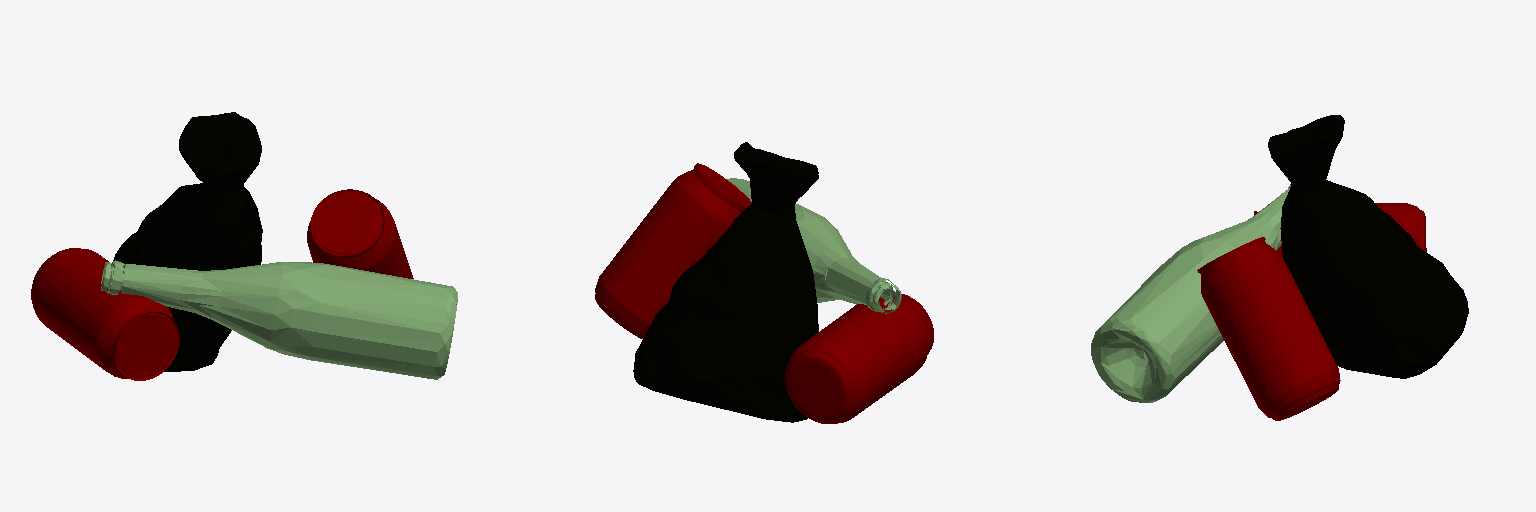
Rendered from copler.obj.
The picture shows the model from 3 angles: view 1: azimuth 30°, elevation 25°; view 2: azimuth 150°, elevation 25°; view 3: azimuth 270°, elevation 25°; orthographic projection.
Visible parts, largest first — view 1: cop3, cop1, cop2, cop4; view 2: cop1, cop2, cop4, cop3; view 3: cop1, cop4, cop3, cop2.
Part boxes in pixels (x1,y1,x2,y2): cop3: (101, 260, 457, 379); cop1: (113, 112, 262, 371); cop2: (31, 248, 179, 380); cop4: (307, 189, 413, 278); cop1: (633, 142, 818, 422); cop2: (785, 294, 933, 423); cop4: (595, 163, 751, 338); cop3: (727, 178, 901, 313); cop1: (1268, 115, 1468, 378); cop4: (1197, 237, 1340, 420); cop3: (1091, 184, 1290, 402); cop2: (1254, 203, 1426, 256).
Bounding box in the file's own units: 14.94 × 11.14 × 15.27.